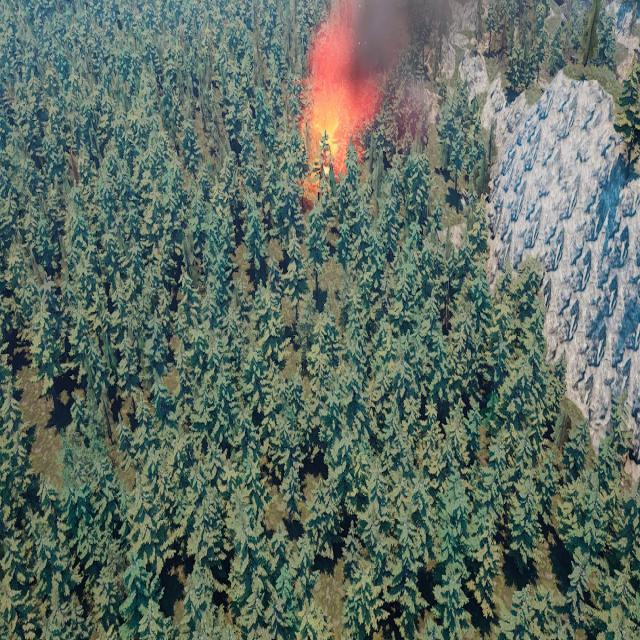fire: (297, 84, 352, 184)
smoke: (307, 0, 467, 143)
